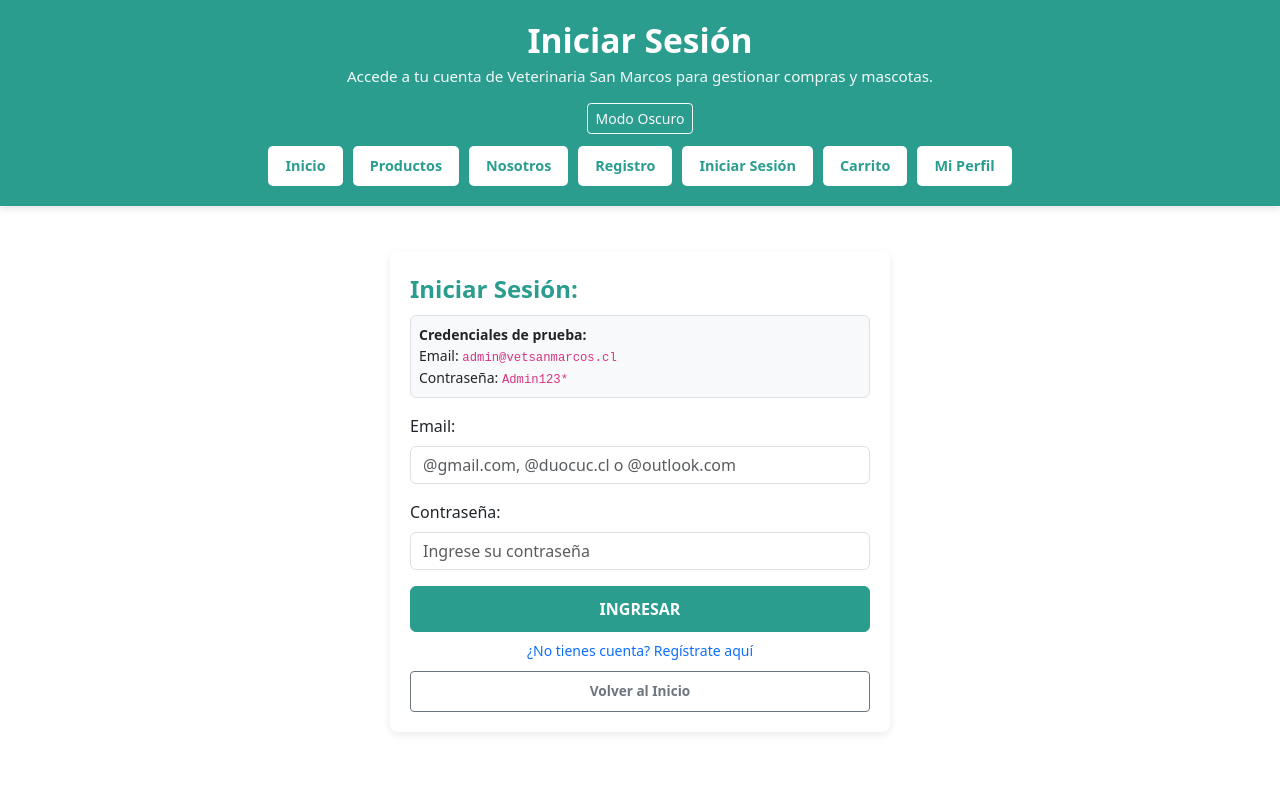
Scenario: Login › Fallo de autenticación con credenciales incorrectas
Note: Act (Acción)
Type "usuario_erroneo@gmail.com" into the field labelled "Email:" at (640,466), box [410,446,870,484]
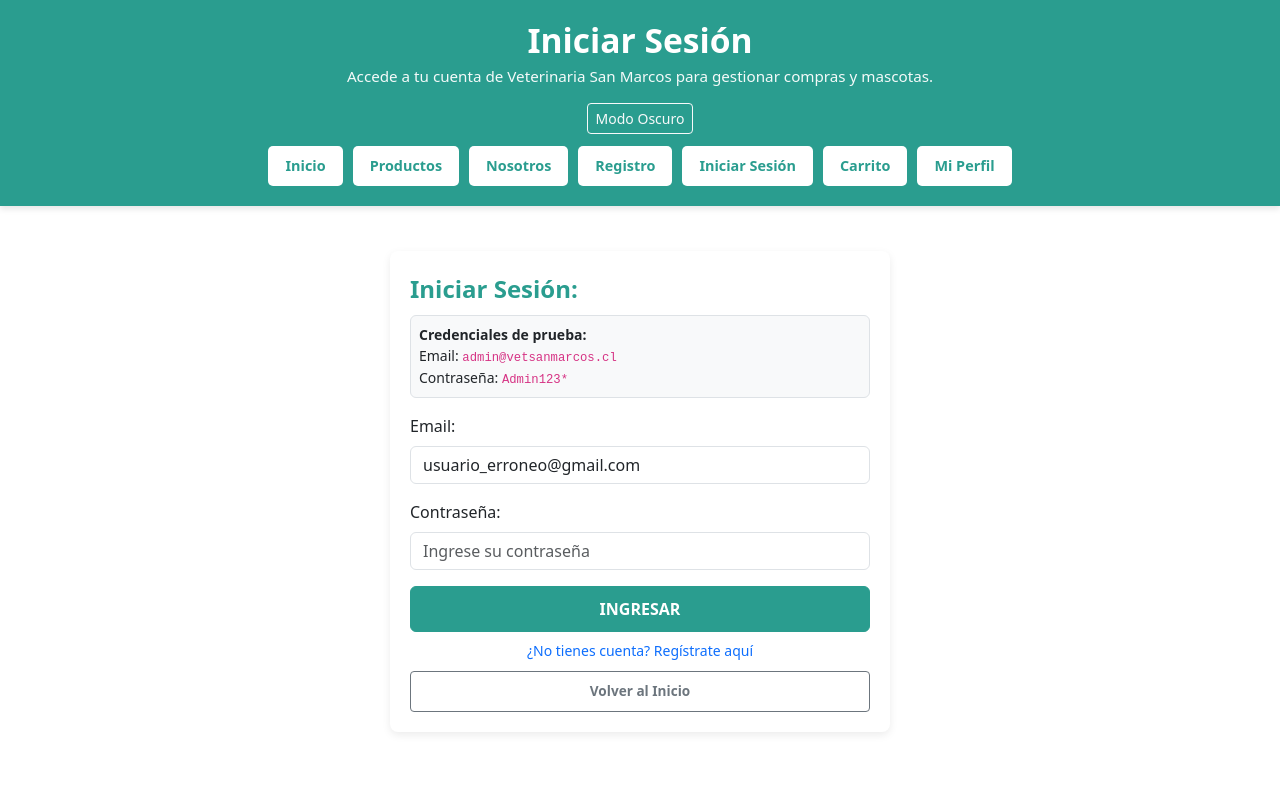
Type "ClaveInvalida123*" into the password field labelled "Contraseña:" at (640,552), box [410,532,870,570]
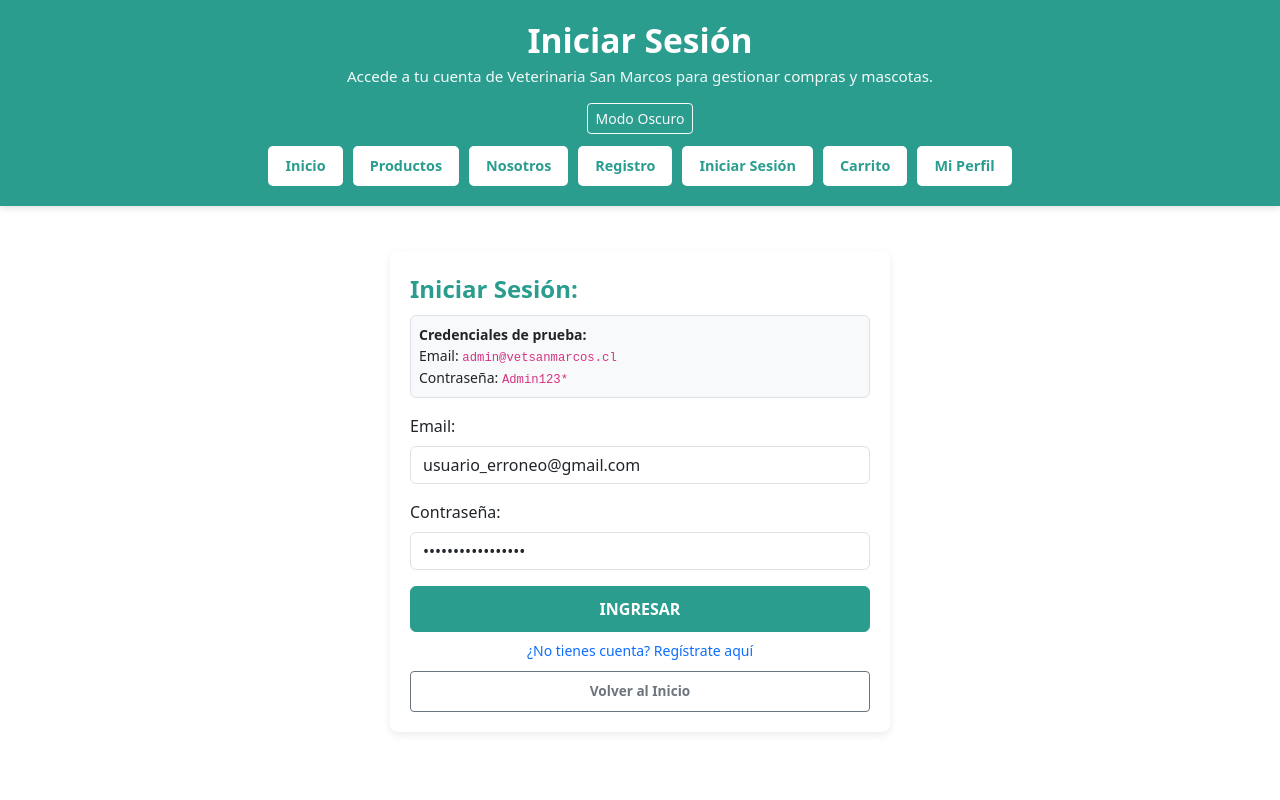
Click the button "INGRESAR" at (640,610), box [410,586,870,632]
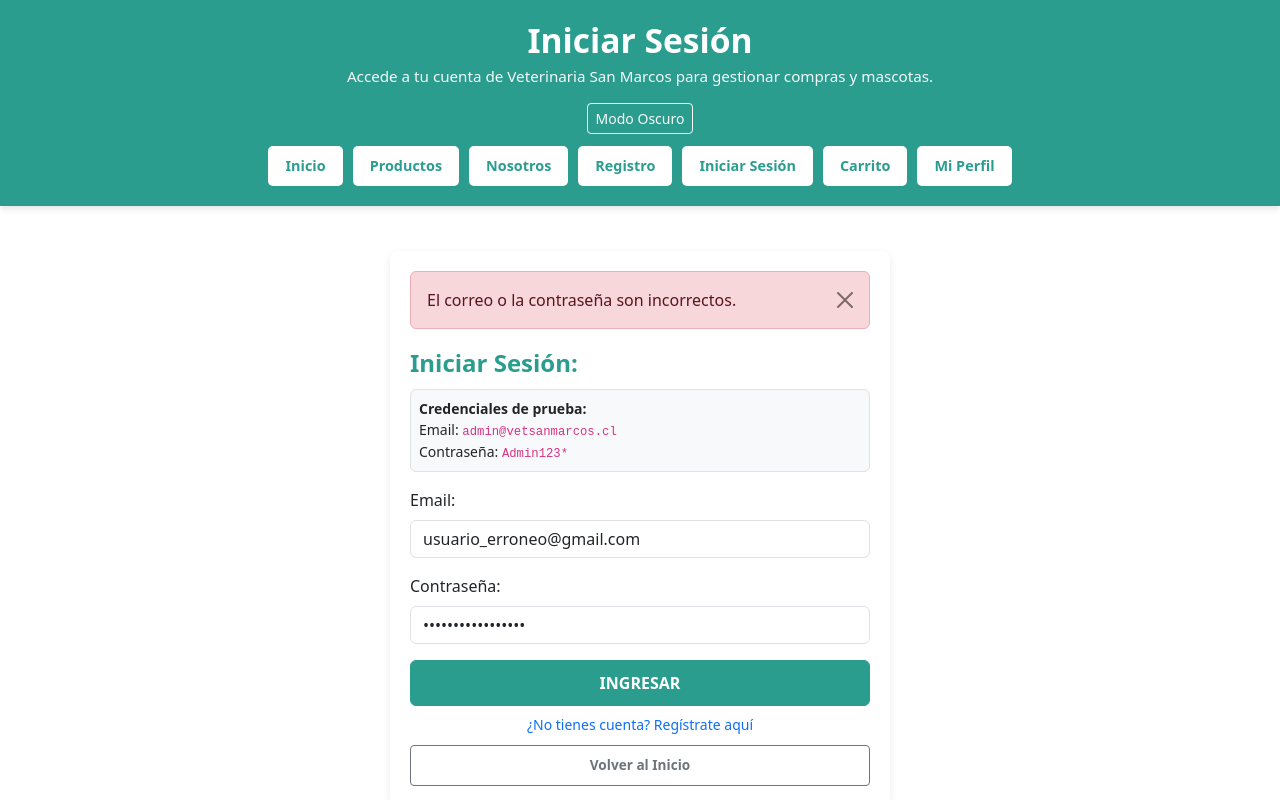
Now the text "El correo o la contraseña son incorrectos." is shown, box [410,271,870,329]
